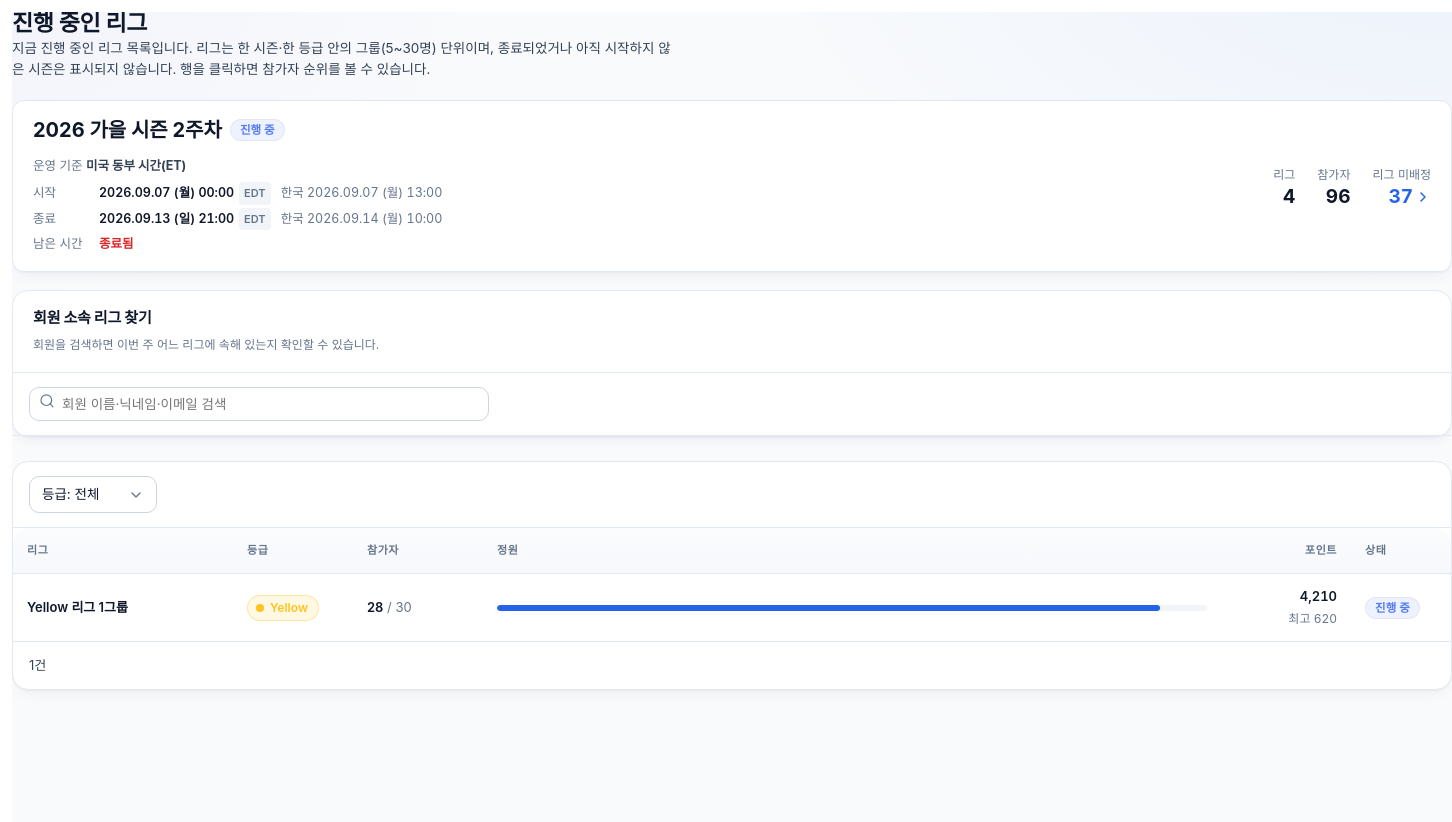
Test: the active leagues list › distinguishes an empty filter from an empty league table
The image size is (1452, 822).
Expected: the text "Yellow 리그 1그룹" is shown, [27,599,128,615]
Step 1. Click the button "등급: 전체" → (93, 495), box [29,476,157,513]
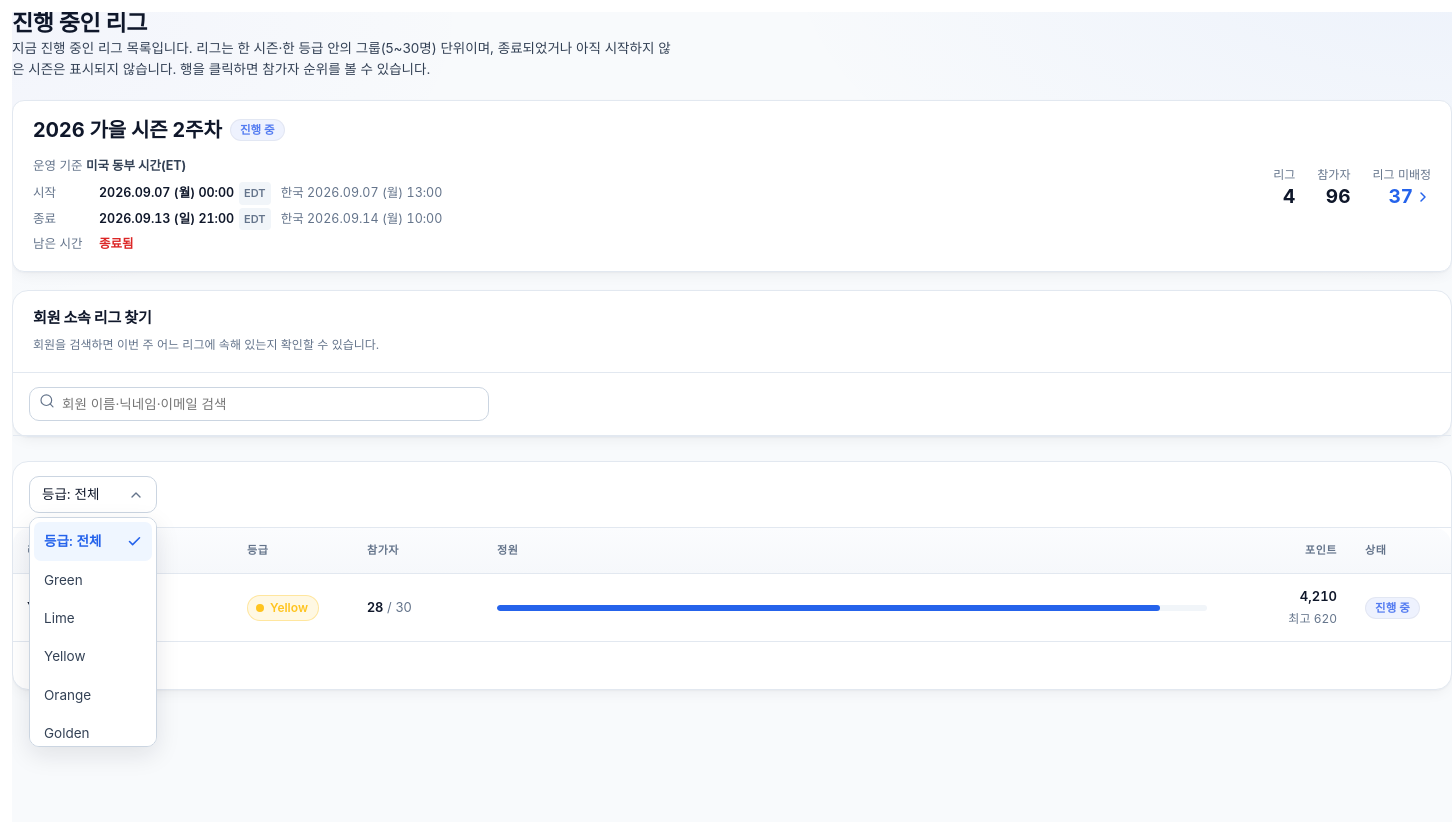
Step 2. Click the option "Golden" → (67, 733), box [44,725,90,741]
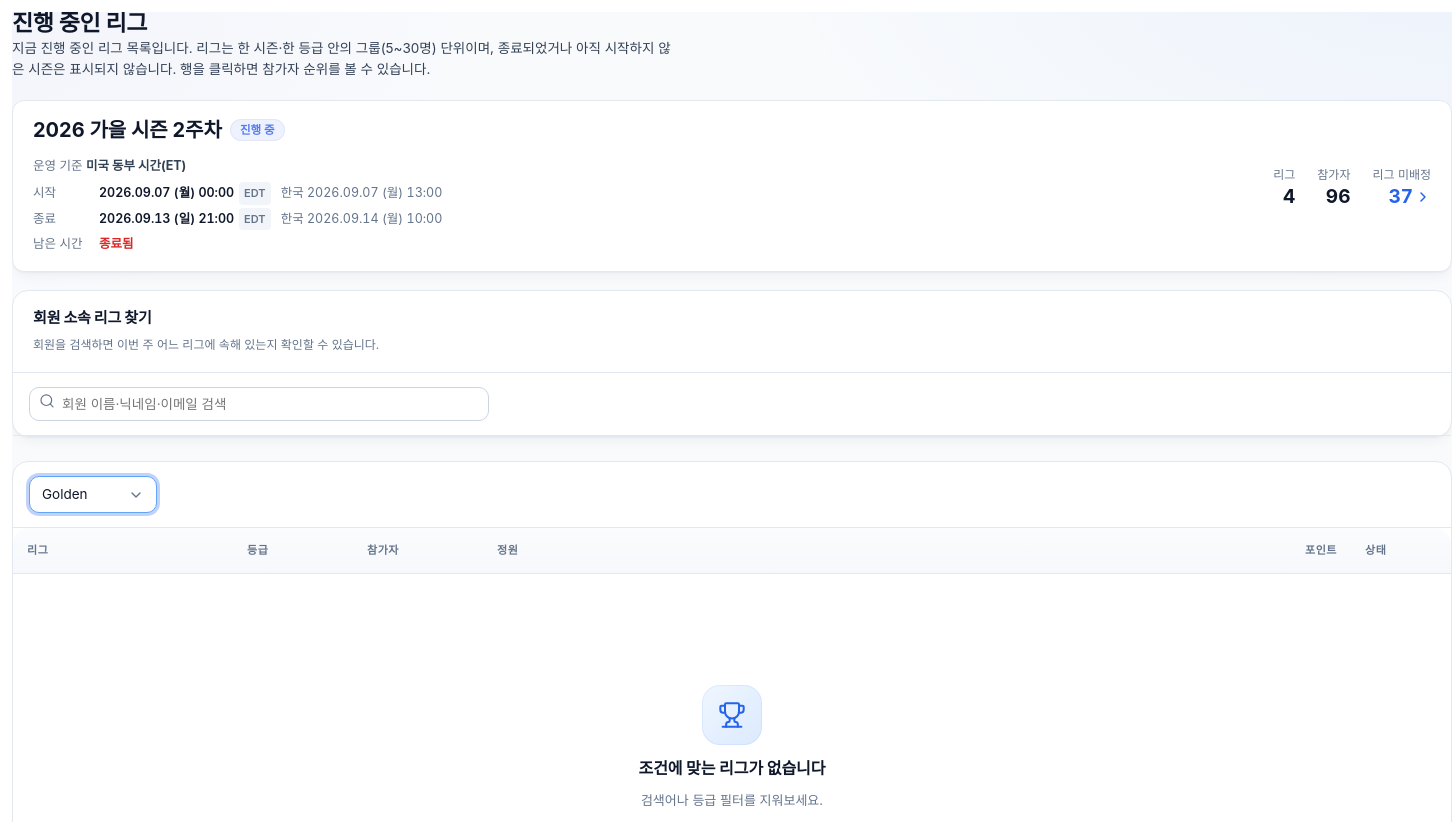
Result: the text "조건에 맞는 리그가 없습니다" is shown at [638,757,826,779]
